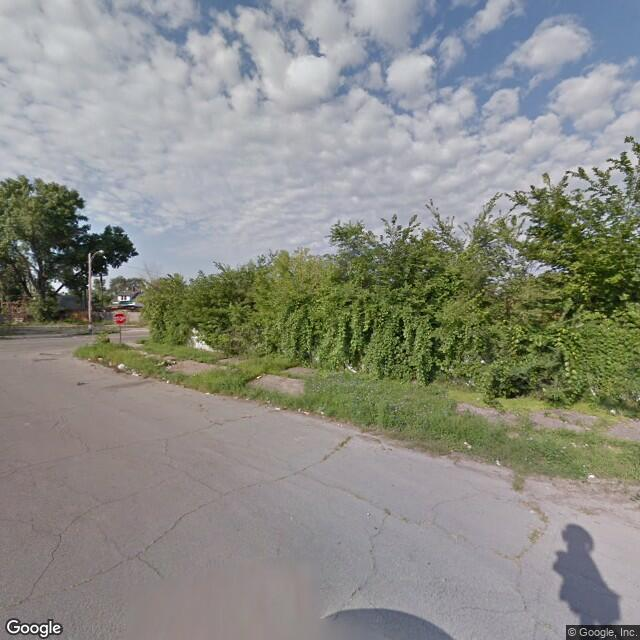litter: (605, 407, 617, 416), (295, 406, 305, 416), (128, 372, 141, 379), (493, 459, 503, 468), (118, 363, 127, 372), (97, 354, 105, 362), (466, 440, 473, 448), (587, 471, 595, 478), (275, 405, 280, 411), (204, 391, 209, 395), (259, 374, 262, 379), (167, 379, 170, 383)
